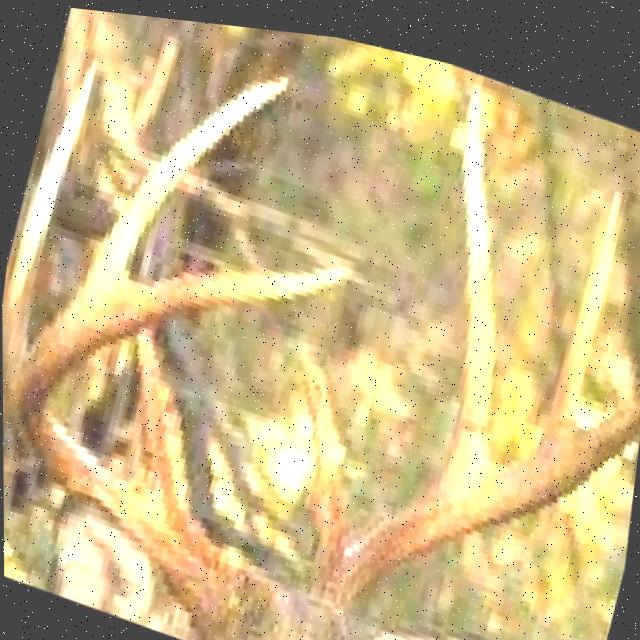L-F: (310, 357, 640, 602)
L-G1: (298, 348, 351, 559)
L-G2: (438, 65, 495, 473)
L-G3: (536, 172, 626, 434)
R-F: (10, 254, 353, 640)
R-G1: (134, 328, 202, 528)
R-G2: (2, 56, 99, 382)
R-G3: (77, 63, 291, 293)
